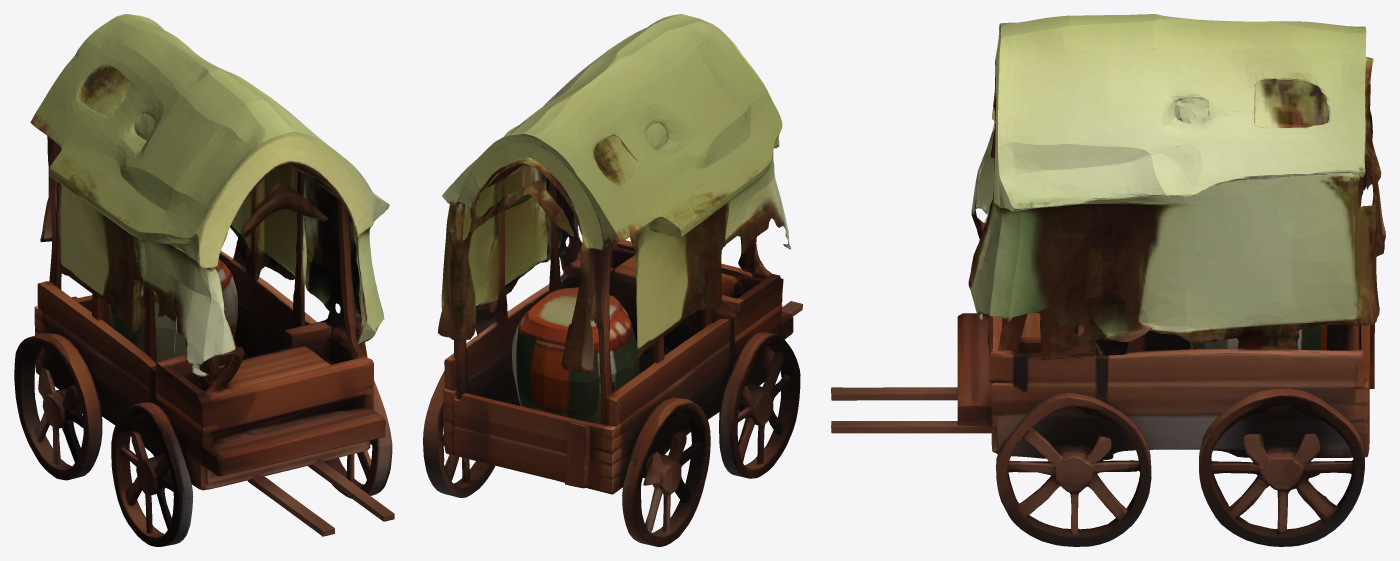
The model's file is 3deditformer_t06.glb.
The picture shows the model from 3 angles, left to right: view 1: azimuth 30°, elevation 25°; view 2: azimuth 150°, elevation 25°; view 3: azimuth 270°, elevation 25°; orthographic projection. The views are drawn at different scales.
Visible parts, largest first — view 1: geometry_0; view 2: geometry_0; view 3: geometry_0.
Part boxes in pixels (left/top/right/bottom): geometry_0: left=14, top=14, right=394, bottom=546; geometry_0: left=423, top=14, right=802, bottom=546; geometry_0: left=831, top=14, right=1385, bottom=546.
Size of the model in its own units: 1.05 by 1.88 by 2.
Materials: 1 (1 with a texture image).
